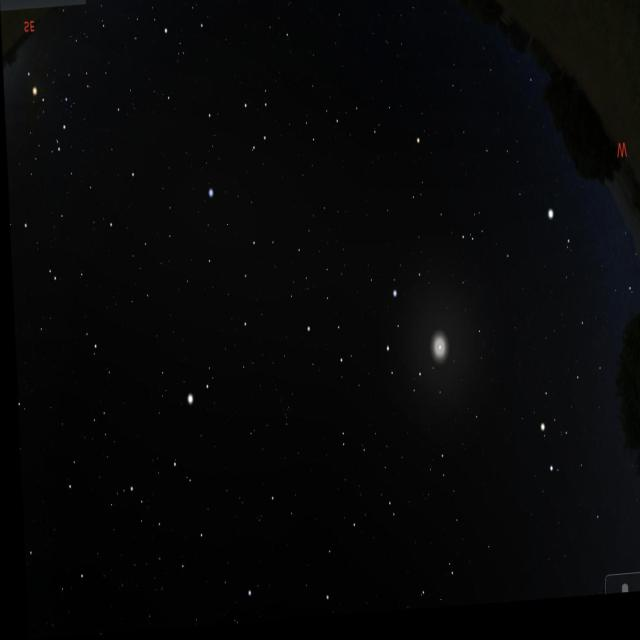bootes: (140, 374, 220, 588)
canis_minor: (543, 204, 582, 262)
gemini: (511, 352, 640, 506)
leo: (300, 272, 421, 418)
moon: (407, 322, 459, 382)
scorpius: (17, 52, 75, 174)
